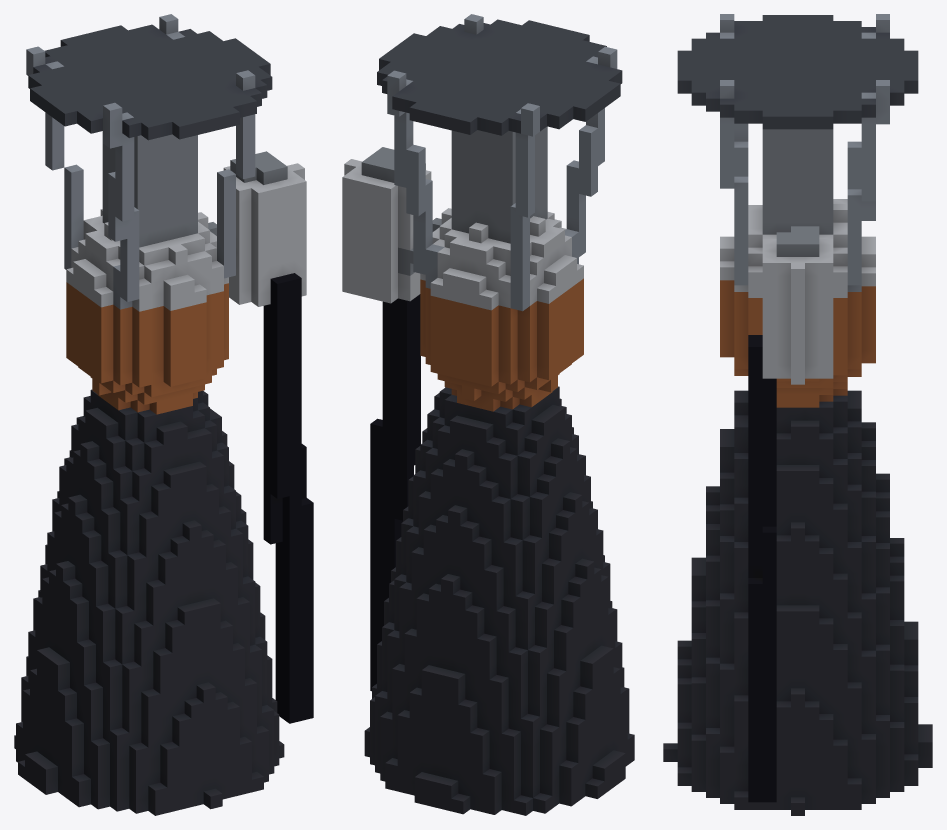
File: eng_falcao.glb
The picture shows the model from 3 angles, left to right: view 1: azimuth 30°, elevation 25°; view 2: azimuth 150°, elevation 25°; view 3: azimuth 270°, elevation 25°; orthographic projection.
Visible parts, largest first — view 1: eng_falcao; view 2: eng_falcao; view 3: eng_falcao.
Boxes of the visible parts, x1,y1,x2,y2 form: eng_falcao: [14, 14, 313, 815]; eng_falcao: [342, 14, 634, 815]; eng_falcao: [663, 14, 932, 815].
Bounding box in the file's own units: 1.1 × 2.75 × 0.95.
